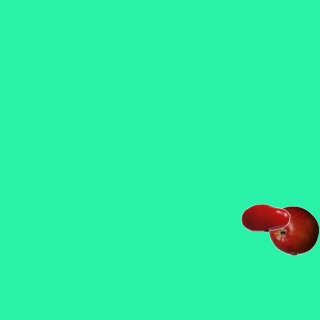Apple Braeburn: (268, 205, 318, 255)
Tomato 2: (240, 192, 290, 242)
